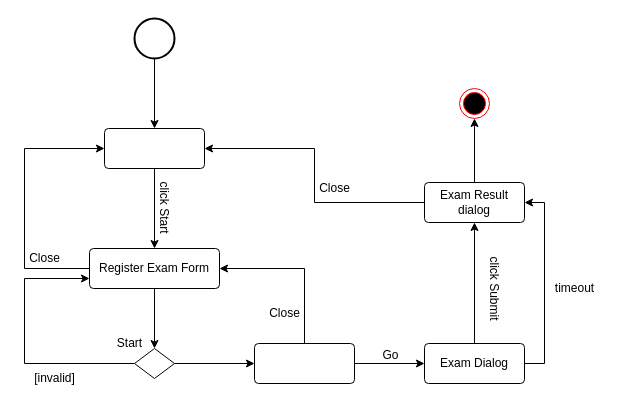
This 622x410 diagram has some shape labels left out. The centre of each missing label's shape, as x and y in pixels:
Confirm Dialog: pixel 304 363
Student Site Page: pixel 154 148
